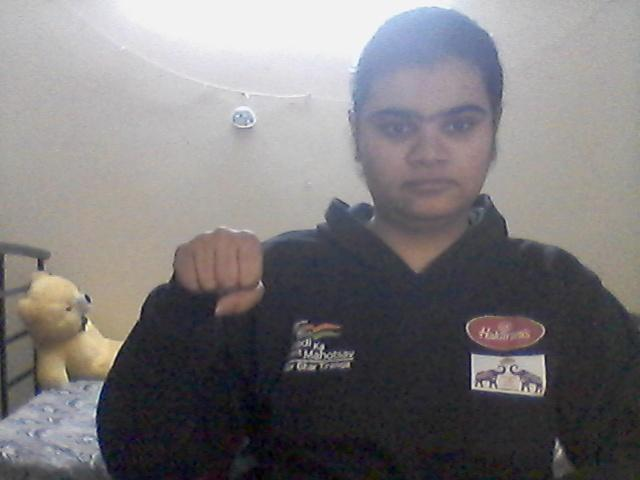yes: (168, 226, 272, 316)
